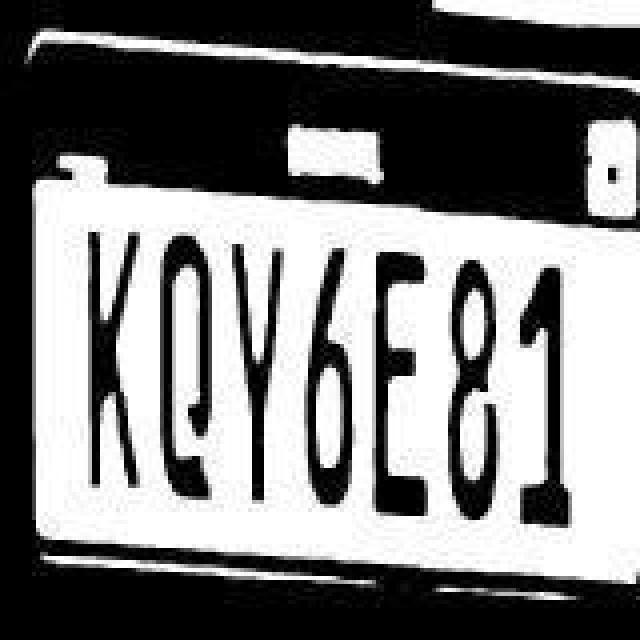1: (510, 258, 578, 534)
6: (304, 240, 360, 512)
8: (440, 254, 504, 530)
E: (366, 246, 434, 522)
K: (78, 226, 146, 494)
Q: (154, 230, 222, 506)
Y: (224, 236, 288, 508)
